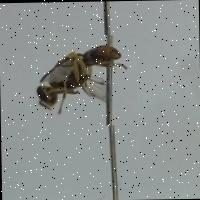Oriental-fruit-fly: (31, 33, 138, 125)
